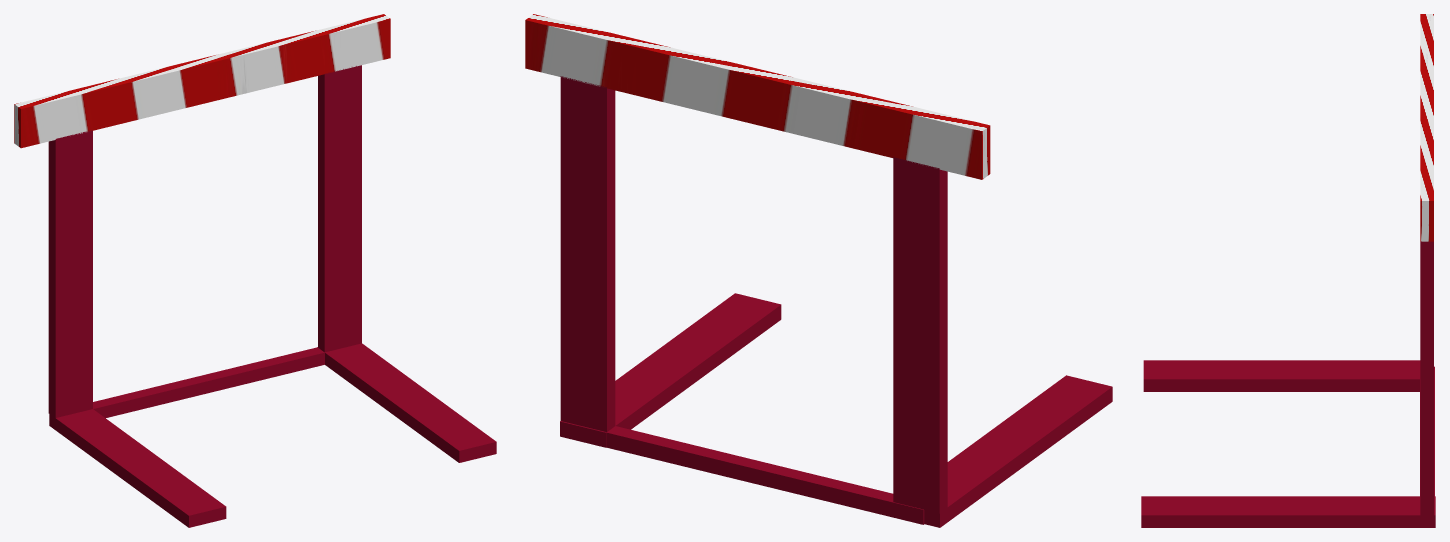
File: ballaAtletismo.obj
3 renders of one model, left to right at view 1: azimuth 30°, elevation 25°; view 2: azimuth 150°, elevation 25°; view 3: azimuth 270°, elevation 25°, orthographic. The views are drawn at different scales.
Parts seen in each view (by area): view 1: pCube3; view 2: pCube3; view 3: pCube3.
Part boxes in pixels (x1,y1,x2,y2): pCube3: (14,14,496,527); pCube3: (525,14,1112,527); pCube3: (1141,14,1435,527).
Size of the model in its own units: 1.38 by 1.18 by 0.9202.
2 materials, 2 textured.
